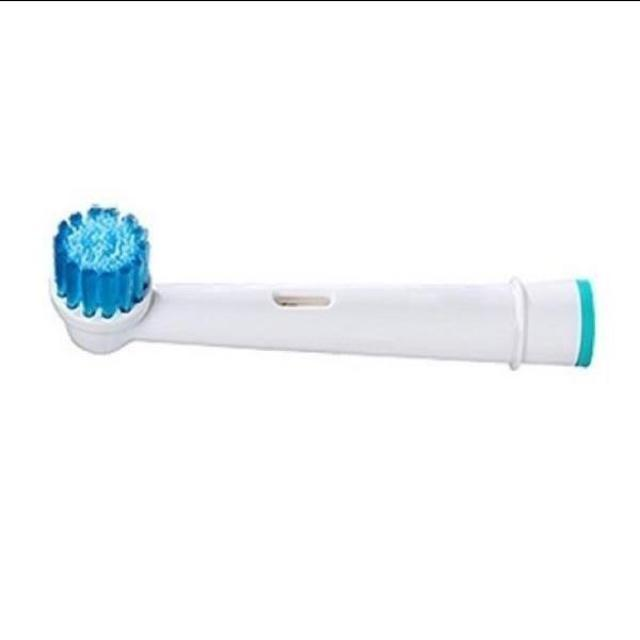toothbrush: (11, 187, 640, 435)
